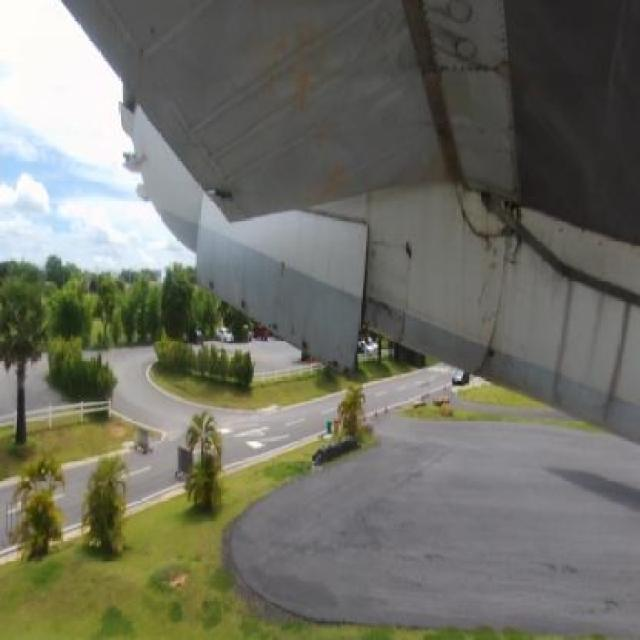Missing-Rivet: (427, 54, 508, 81), (419, 4, 447, 73)
Rust: (546, 255, 640, 440), (255, 9, 340, 117), (452, 263, 516, 392), (363, 228, 422, 362), (452, 174, 540, 260), (295, 118, 367, 211), (401, 0, 453, 117), (404, 120, 473, 208), (494, 39, 558, 118), (326, 349, 359, 394), (263, 306, 288, 345), (297, 324, 318, 368), (233, 284, 252, 318), (204, 268, 222, 298)
Scartch: (184, 158, 245, 225), (470, 221, 508, 267), (472, 276, 496, 330)
